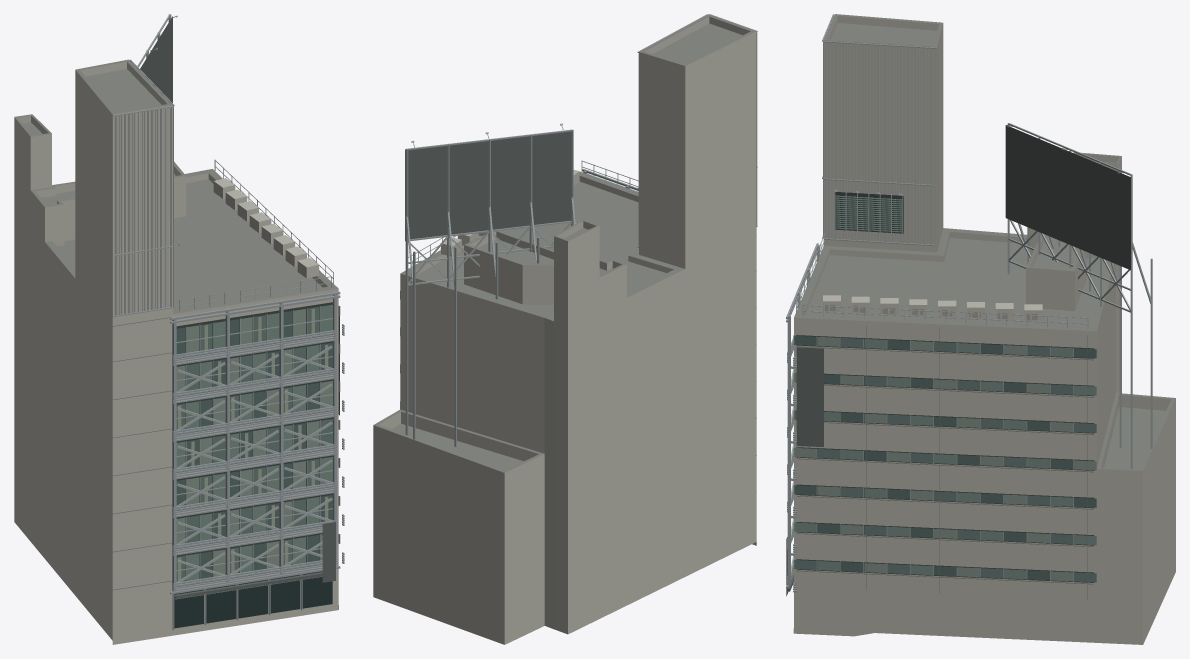
Rendered from daiichi-kangin.glb.
The picture shows the model from 3 angles, left to right: view 1: azimuth 30°, elevation 25°; view 2: azimuth 150°, elevation 25°; view 3: azimuth 270°, elevation 25°; orthographic projection. The views are drawn at different scales.
Parts seen in each view (by area): view 1: dk_wall, dk_aluminum, dk_roof, dk_brace, dk_glass_1, dk_glass_3, dk_glass_2, dk_glass_0, dk_shop_glass, dk_reveal, dk_sign_case, dk_curtain (+1 smaller); view 2: dk_wall, dk_sign_case, dk_roof, dk_aluminum, dk_brace; view 3: dk_wall, dk_roof, dk_aluminum, dk_sign_case, dk_reveal, dk_glass_1, dk_glass_2, dk_glass_0, dk_glass_3, dk_joint, dk_brace.
Boxes of the visible parts, <box> form: dk_wall: <box>14,61,338,644</box>; dk_aluminum: <box>112,14,344,630</box>; dk_roof: <box>14,59,338,313</box>; dk_brace: <box>176,345,332,582</box>; dk_glass_1: <box>176,304,339,583</box>; dk_glass_3: <box>176,309,339,578</box>; dk_glass_2: <box>176,306,339,580</box>; dk_glass_0: <box>176,307,339,583</box>; dk_shop_glass: <box>174,571,332,628</box>; dk_reveal: <box>176,302,332,586</box>; dk_sign_case: <box>140,16,339,599</box>; dk_curtain: <box>178,308,328,584</box>; dk_wall: <box>373,16,756,644</box>; dk_sign_case: <box>405,131,570,241</box>; dk_roof: <box>373,14,755,472</box>; dk_aluminum: <box>405,14,757,446</box>; dk_brace: <box>406,197,575,288</box>; dk_wall: <box>793,16,1175,644</box>; dk_roof: <box>794,14,1175,470</box>; dk_aluminum: <box>786,14,1152,592</box>; dk_sign_case: <box>786,125,1130,596</box>; dk_reveal: <box>796,192,1094,582</box>; dk_glass_1: <box>794,195,1096,579</box>; dk_glass_2: <box>794,335,1096,580</box>; dk_glass_0: <box>794,338,1096,582</box>; dk_glass_3: <box>794,337,1096,581</box>; dk_joint: <box>796,305,1093,599</box>; dk_brace: <box>791,220,1151,576</box>.
Bounding box in the file's own units: 24.58 × 52.31 × 35.45.
